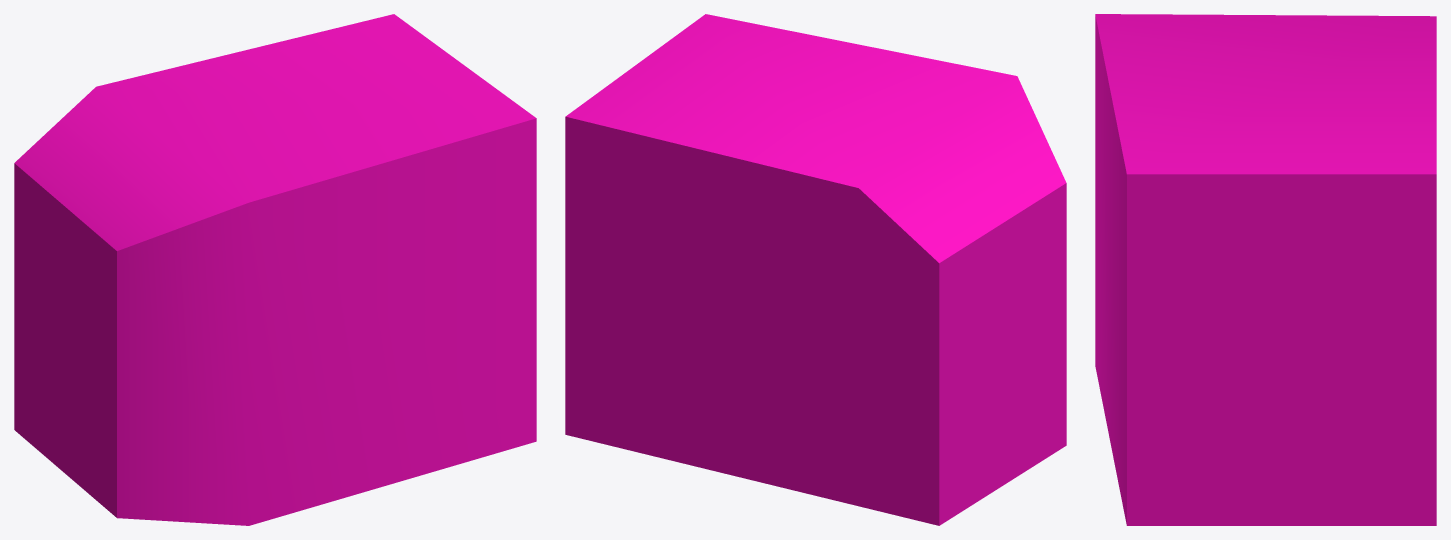
File: study_book_row_1_meshCollider.fbx
3 views of the same model, side by side, from view 1: azimuth 30°, elevation 25°; view 2: azimuth 150°, elevation 25°; view 3: azimuth 270°, elevation 25° (orthographic). The views are drawn at different scales.
Visible parts, largest first — view 1: study_book_row_1_meshCollider; view 2: study_book_row_1_meshCollider; view 3: study_book_row_1_meshCollider.
Boxes of the visible parts, bbox=[...] form: study_book_row_1_meshCollider: bbox=[14, 14, 536, 525]; study_book_row_1_meshCollider: bbox=[565, 14, 1066, 525]; study_book_row_1_meshCollider: bbox=[1095, 14, 1436, 525].
Size of the model in its own units: 35.6 by 27.97 by 24.63.
